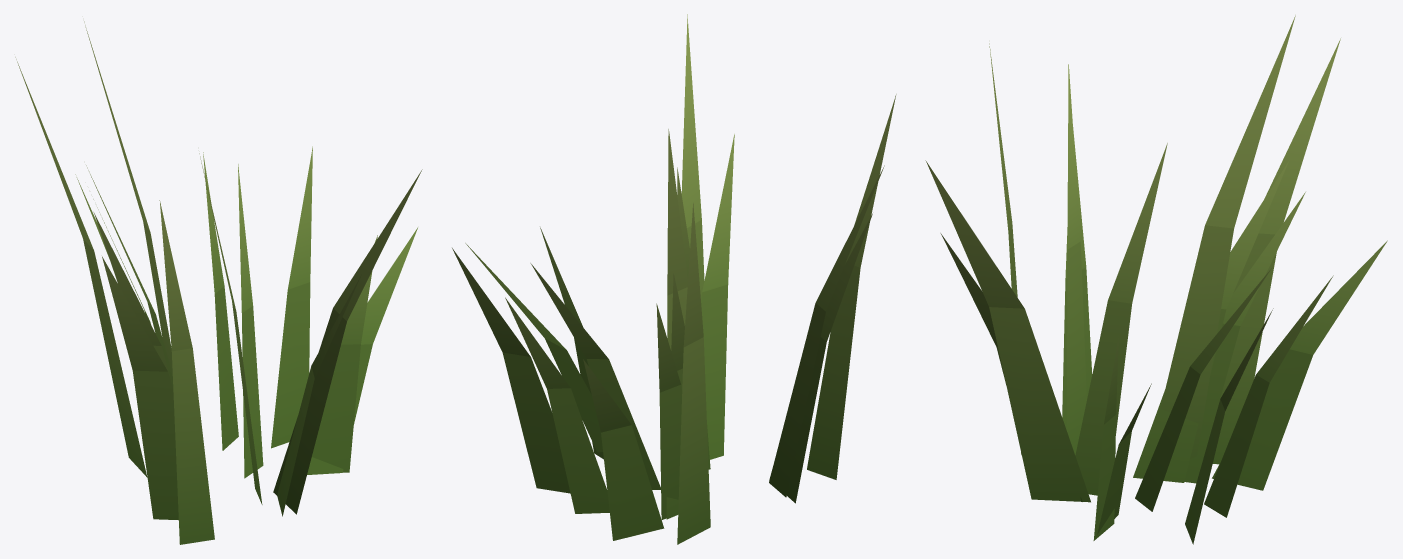
File: grass_tuft.glb
3 renders of one model, left to right at view 1: azimuth 30°, elevation 25°; view 2: azimuth 150°, elevation 25°; view 3: azimuth 270°, elevation 25°, orthographic. The views are drawn at different scales.
Parts seen in each view (by area): view 1: Grass; view 2: Grass; view 3: Grass.
Part boxes in pixels (x1,y1,x2,y2): Grass: (15, 21, 422, 544); Grass: (452, 14, 896, 544); Grass: (925, 15, 1387, 544).
Bounding box in the file's own units: 0.4255 × 0.4756 × 0.4519.
